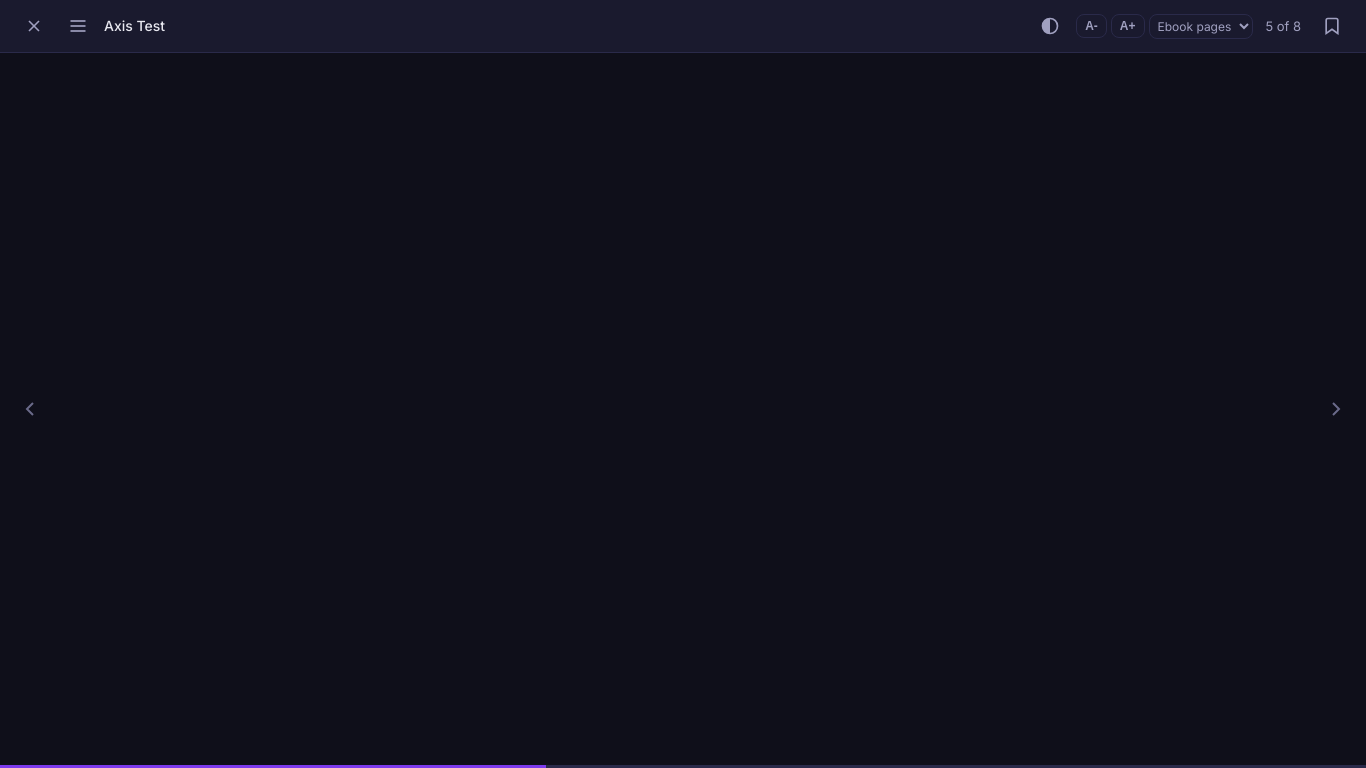
Test: EbookReader — print pages (issue #730) › the page-number setting switches between ebook and print pages and is saved
Expected: the button with aria-label "Reading progress" reads "5 of 8", [1260,16,1306,36]
Select "Print pages" in the dropdown named "Page numbers" at (1200, 26), box [1148,14,1252,38]
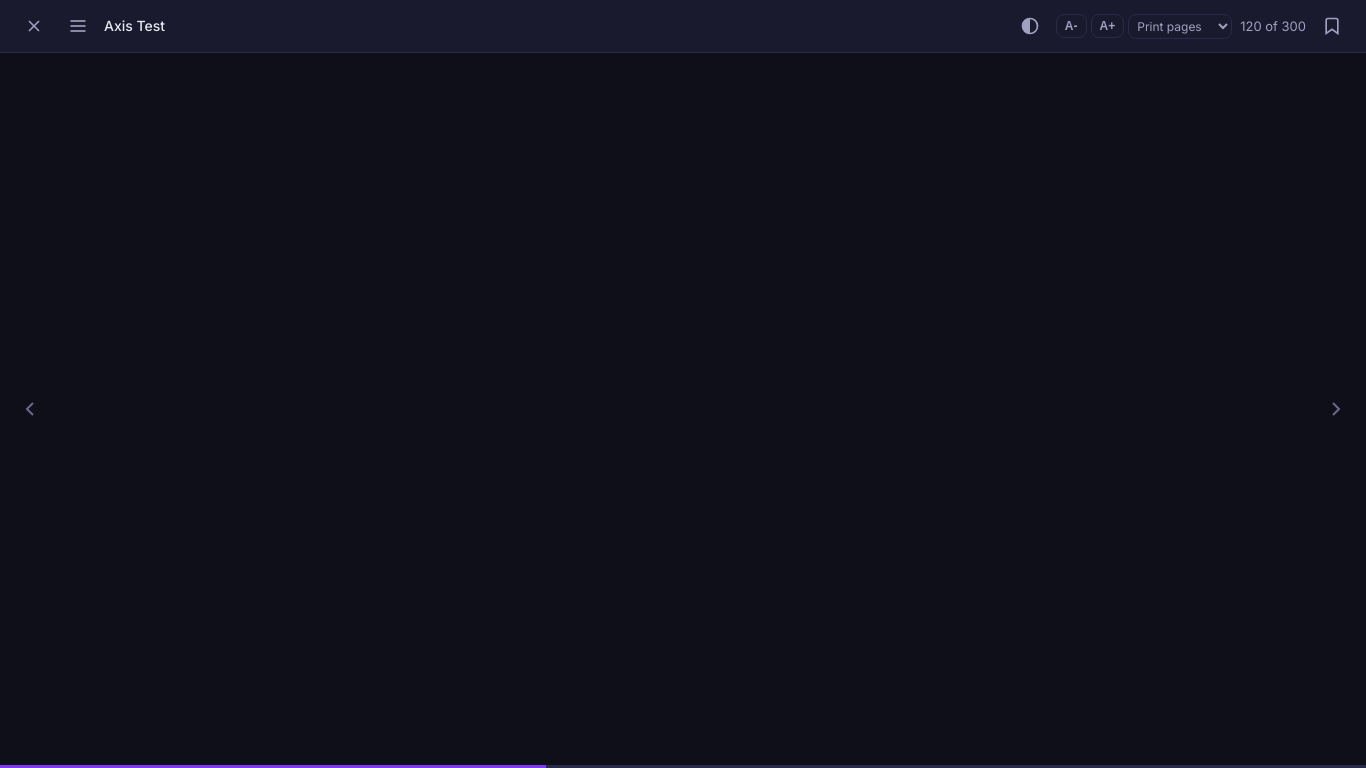
Now the button with aria-label "Reading progress" reads "120 of 300", box [1240,16,1306,36]
